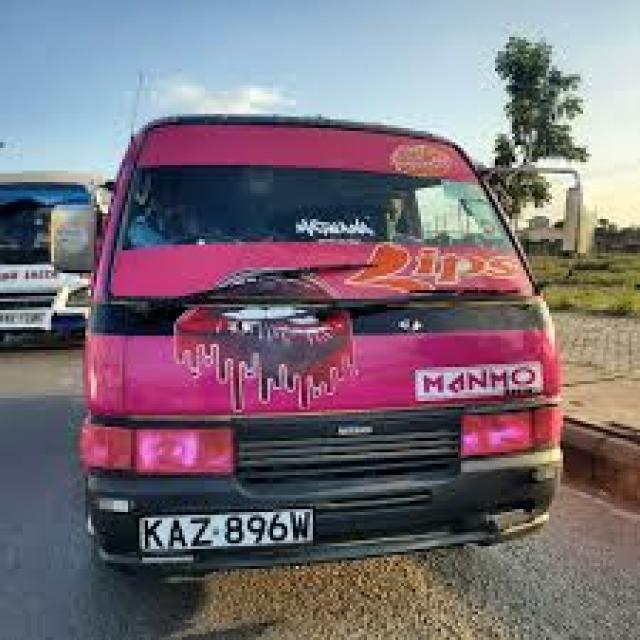matatu: (27, 44, 619, 604)
